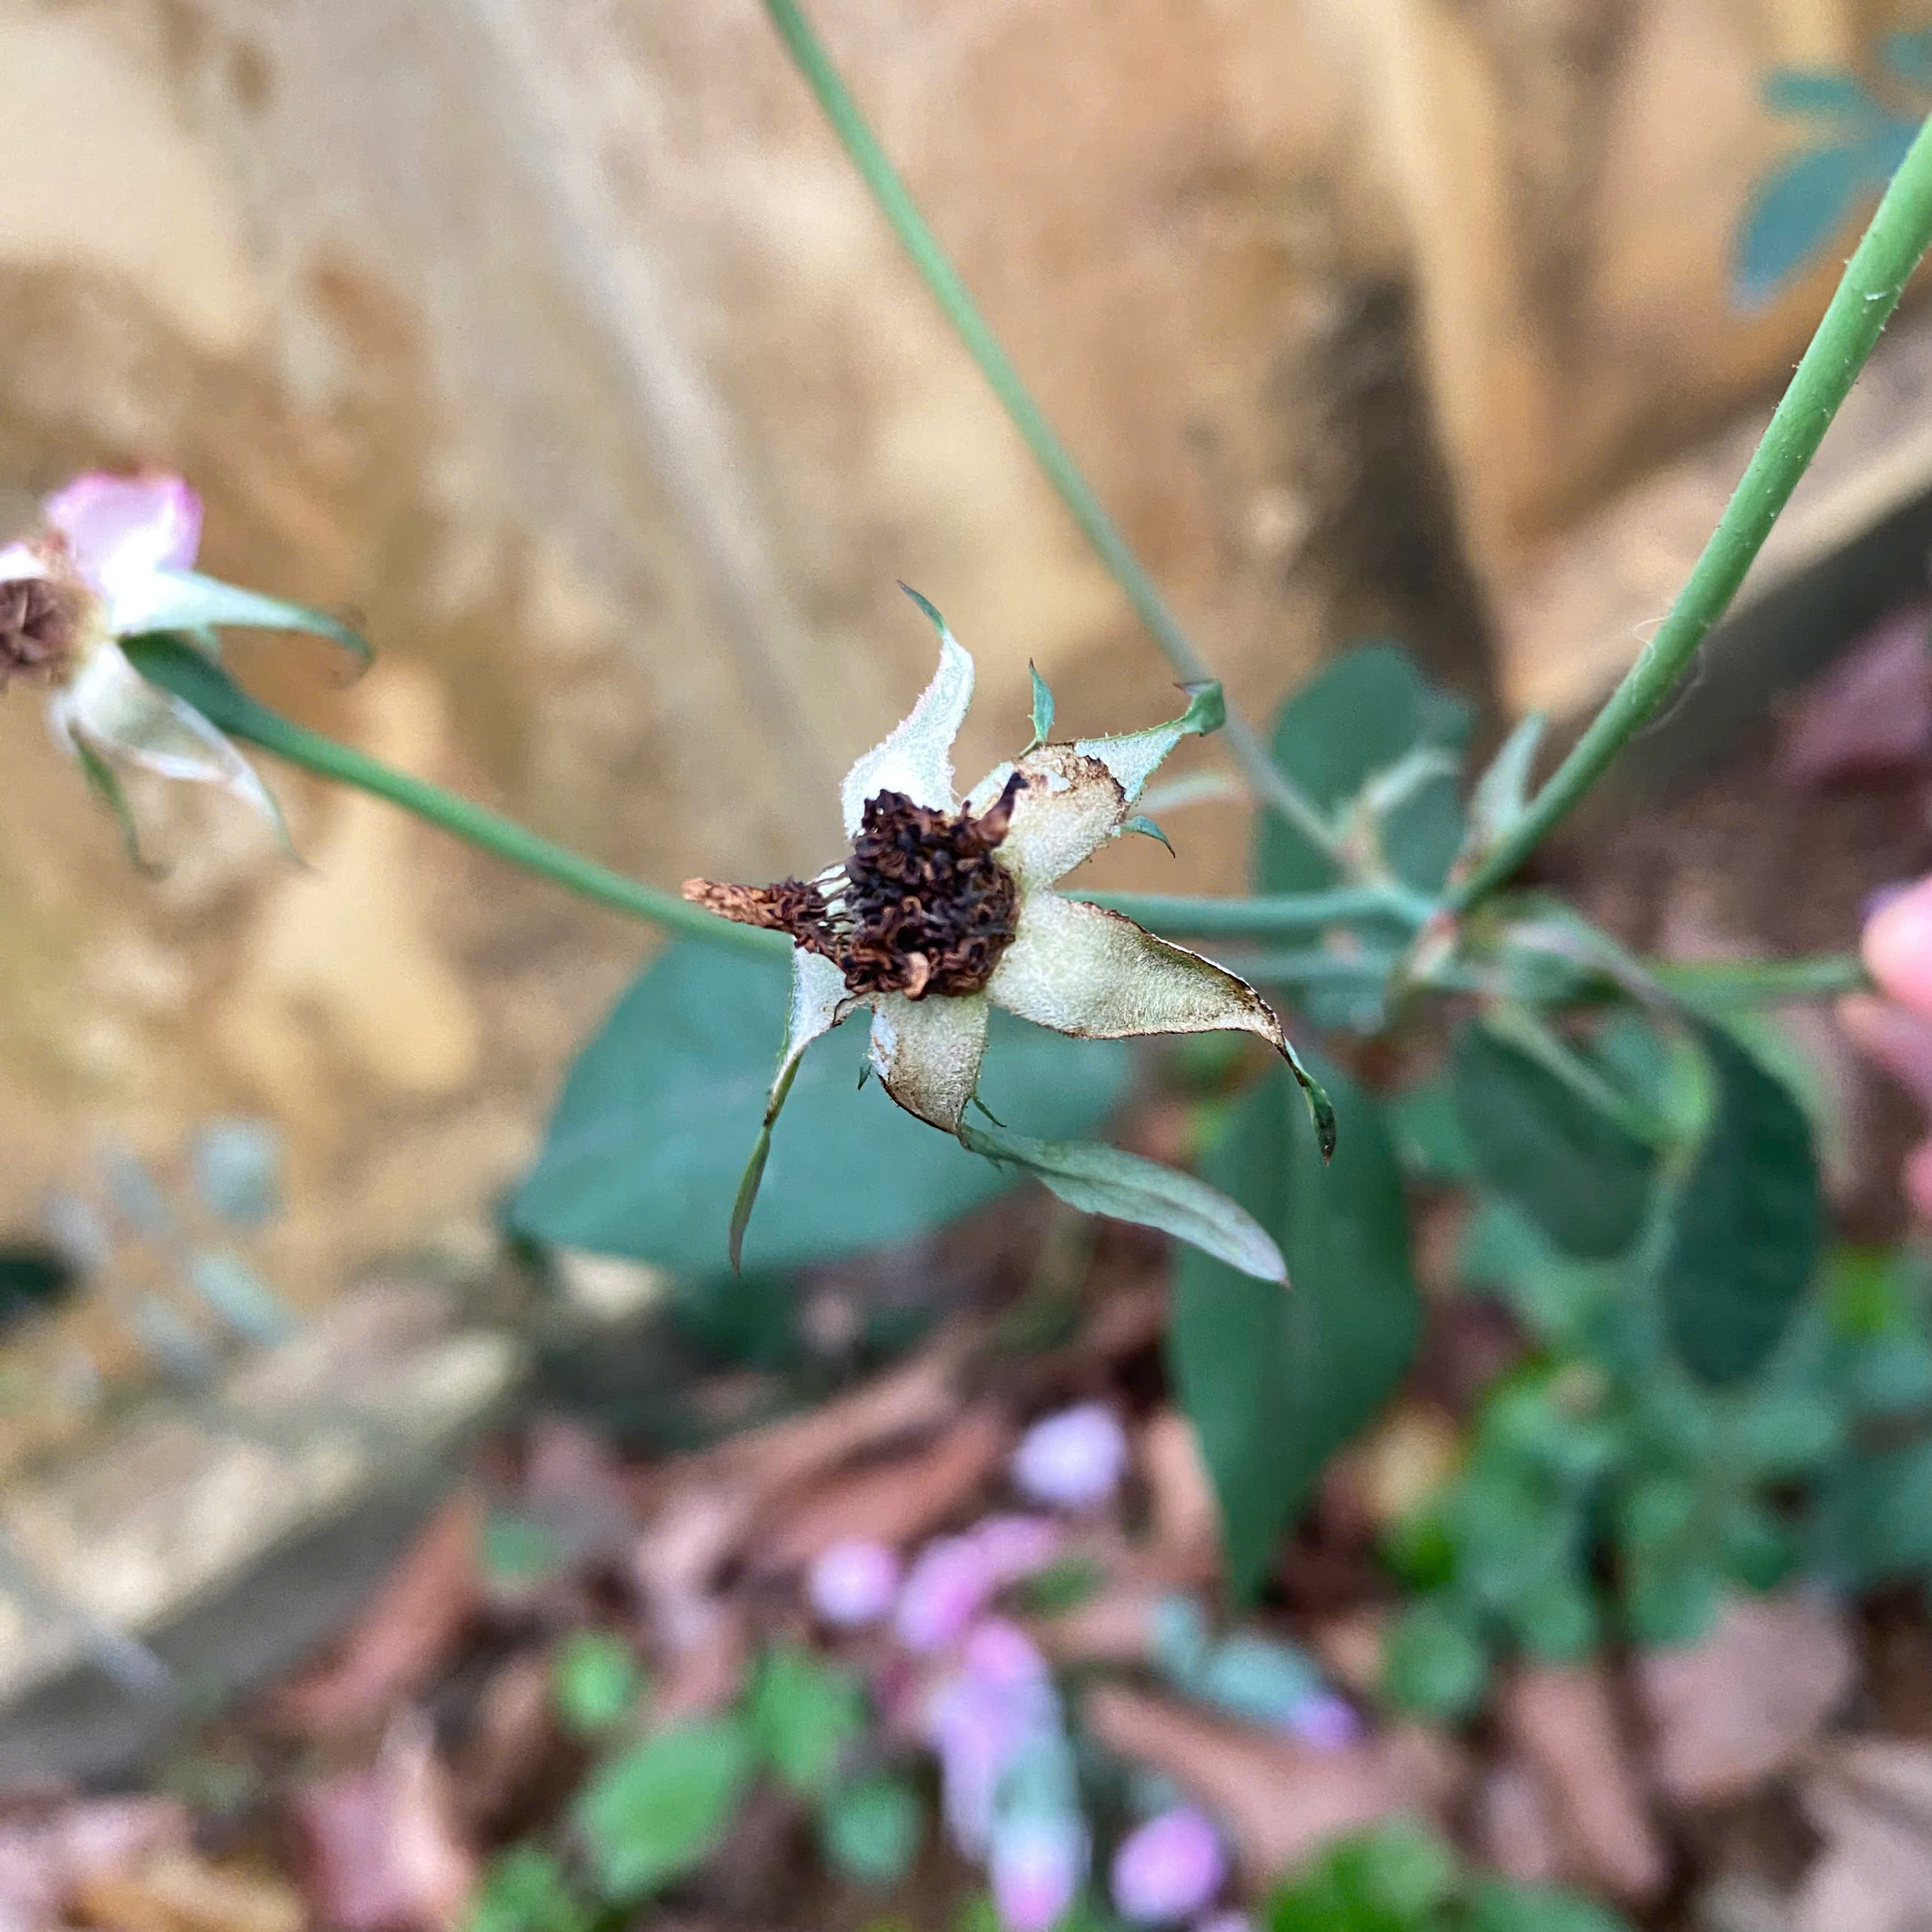hoa_hong_phan: (609, 522, 1444, 1306)
